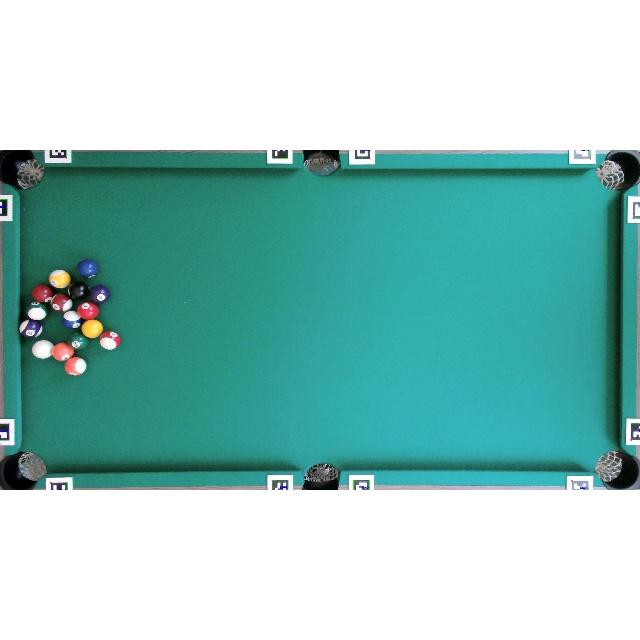cue ball: (32, 340, 54, 360)
other: (18, 319, 44, 339), (66, 280, 89, 302), (24, 301, 49, 321), (76, 258, 99, 279), (49, 292, 73, 312), (100, 330, 122, 351), (89, 284, 111, 305), (64, 356, 87, 376), (48, 269, 71, 289), (61, 309, 82, 330), (67, 331, 89, 351), (77, 301, 99, 321), (81, 319, 103, 339), (31, 284, 54, 303), (51, 342, 74, 361)
